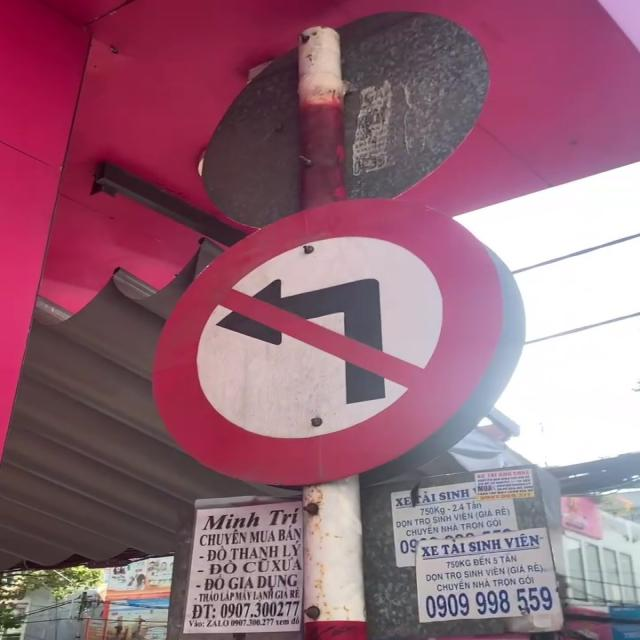Cam_Re_Trai: (146, 198, 524, 488)
